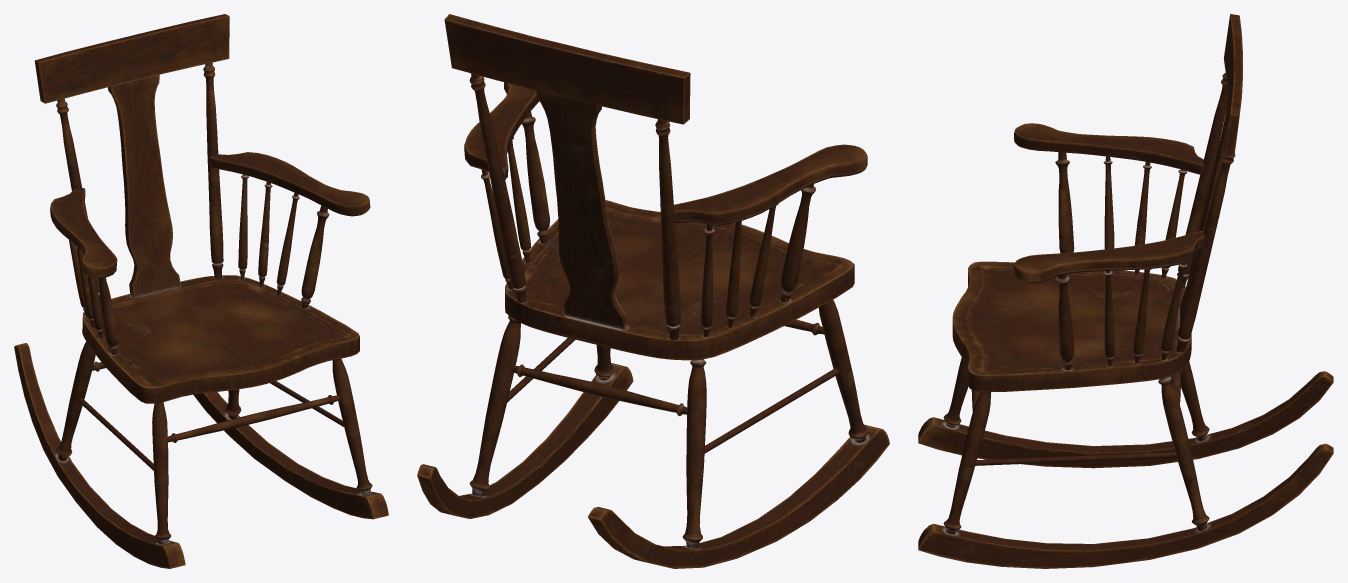
Rendered from Rockingchair_01.glb.
The picture shows the model from 3 angles, left to right: view 1: azimuth 30°, elevation 25°; view 2: azimuth 150°, elevation 25°; view 3: azimuth 270°, elevation 25°; orthographic projection. The views are drawn at different scales.
Parts seen in each view (by area): view 1: Rockingchair_01; view 2: Rockingchair_01; view 3: Rockingchair_01.
Part boxes in pixels (x1=…): Rockingchair_01: x1=14, y1=14, x2=388, y2=568; Rockingchair_01: x1=417, y1=14, x2=889, y2=568; Rockingchair_01: x1=918, y1=14, x2=1333, y2=568.
Size of the model in its own units: 0.7082 by 0.9949 by 0.8336.
Materials: 1 (1 with a texture image).
